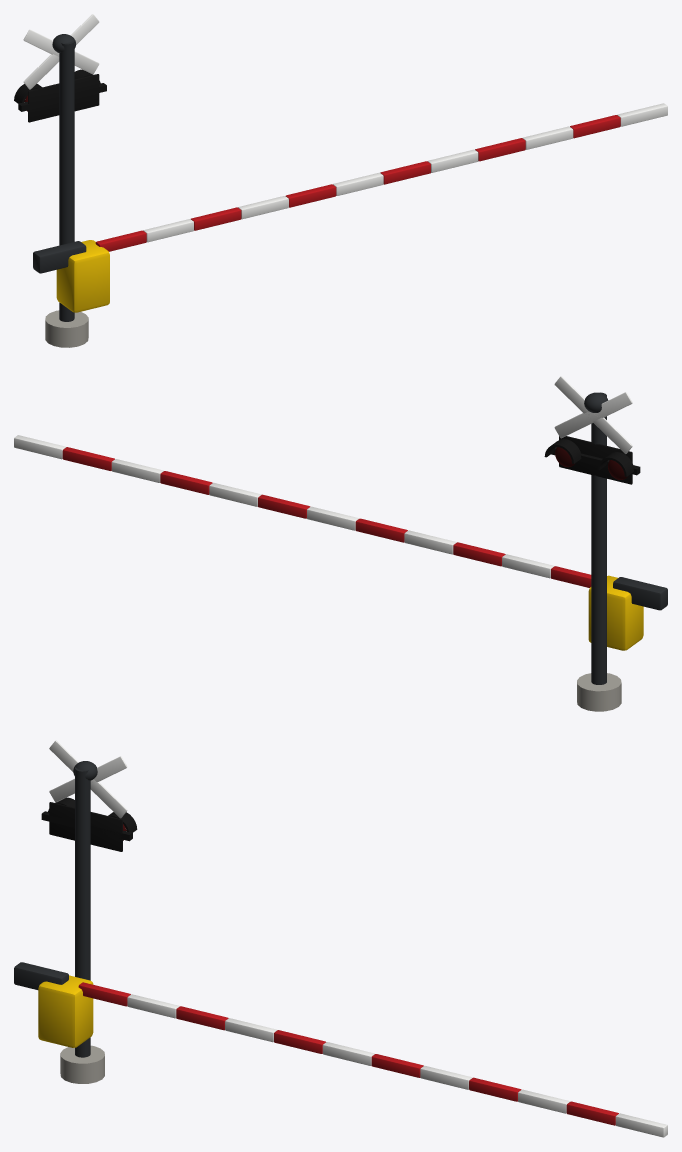
Rendered from RailCrossing.fbx.
The picture shows the model from 3 angles, top to bottom: view 1: azimuth 30°, elevation 25°; view 2: azimuth 150°, elevation 25°; view 3: azimuth 330°, elevation 25°; orthographic projection. The views are drawn at different scales.
Parts seen in each view (by area): view 1: RailCrossing_Body, Barrier_Arm; view 2: RailCrossing_Body, Barrier_Arm; view 3: RailCrossing_Body, Barrier_Arm.
Boxes of the visible parts, box(x1,y1,x2,y2) form: RailCrossing_Body: box(14, 14, 109, 347); Barrier_Arm: box(33, 103, 667, 273); RailCrossing_Body: box(544, 376, 643, 711); Barrier_Arm: box(14, 435, 667, 610); RailCrossing_Body: box(38, 740, 137, 1083); Barrier_Arm: box(14, 962, 667, 1137).
Size of the model in its own units: 6.65 by 3.15 by 0.715.
